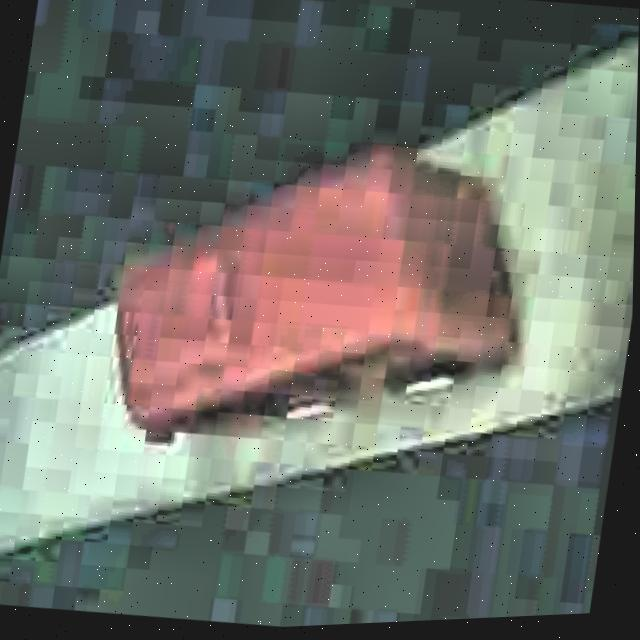bus: (90, 112, 549, 491)
